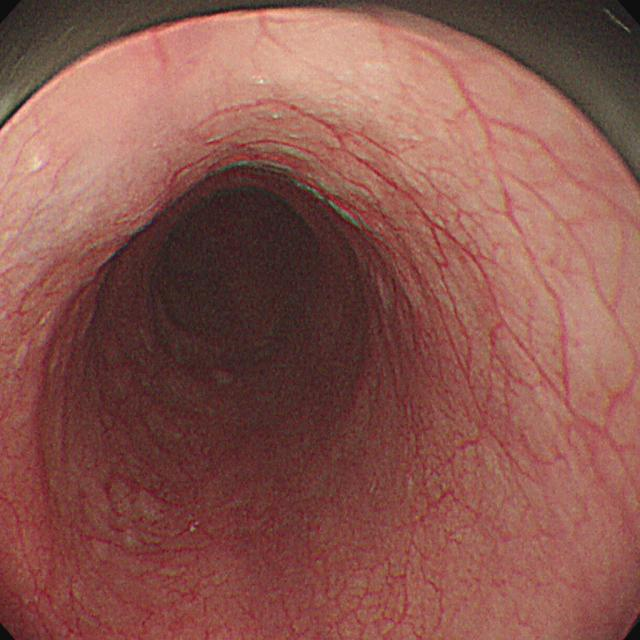E: (168, 193, 318, 348)
